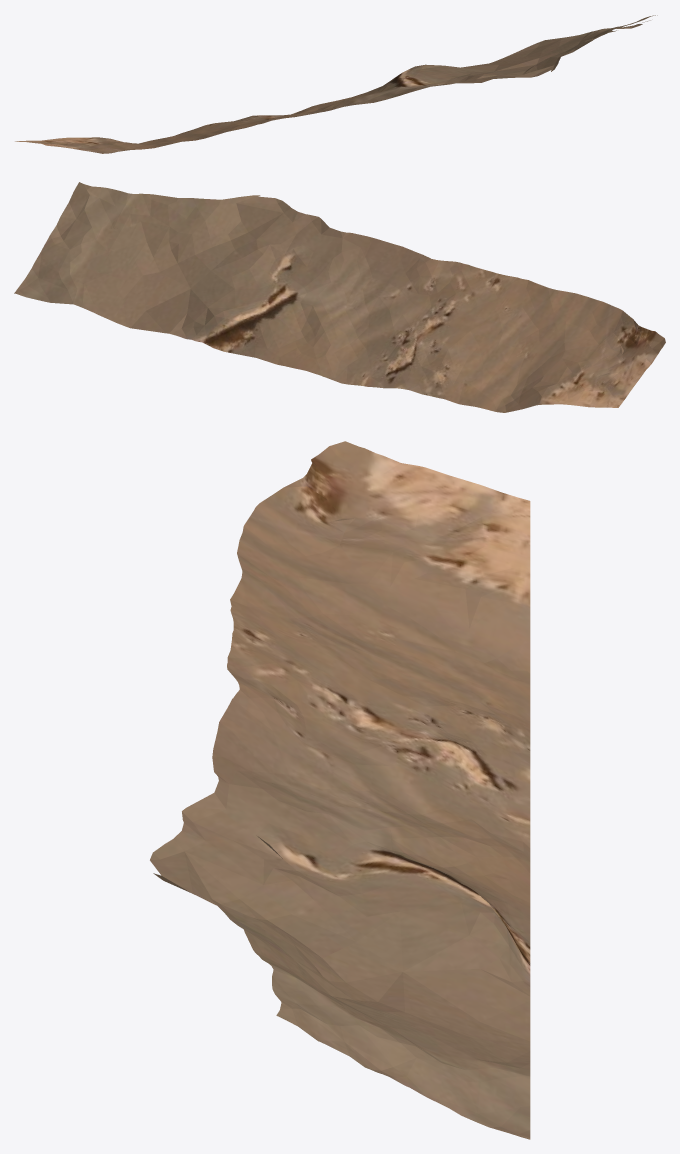
The picture shows the model from 3 angles, top to bottom: view 1: azimuth 30°, elevation 25°; view 2: azimuth 150°, elevation 25°; view 3: azimuth 270°, elevation 25°; orthographic projection. The views are drawn at different scales.
Bounding box in the file's own units: 1.04 × 0.1218 × 0.2925.
Materials: 1 (1 with a texture image).
